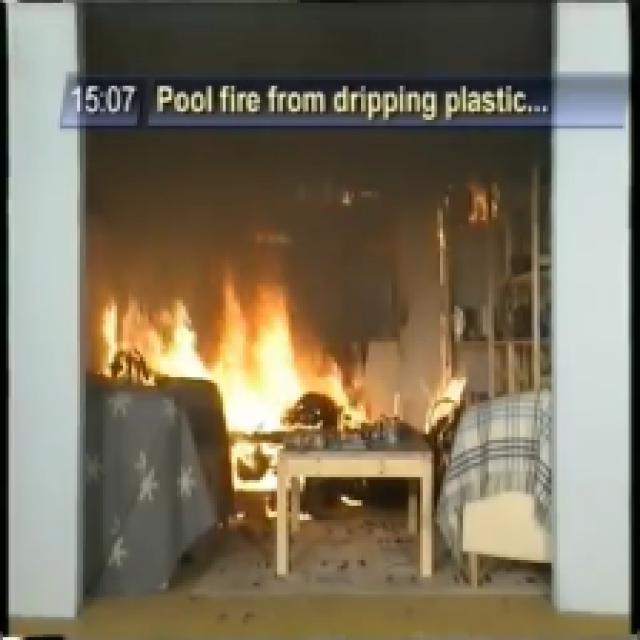Fire: (104, 282, 360, 444)
